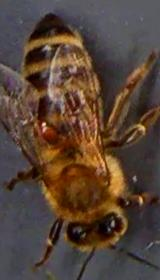varroa_mite: (30, 117, 64, 144)
